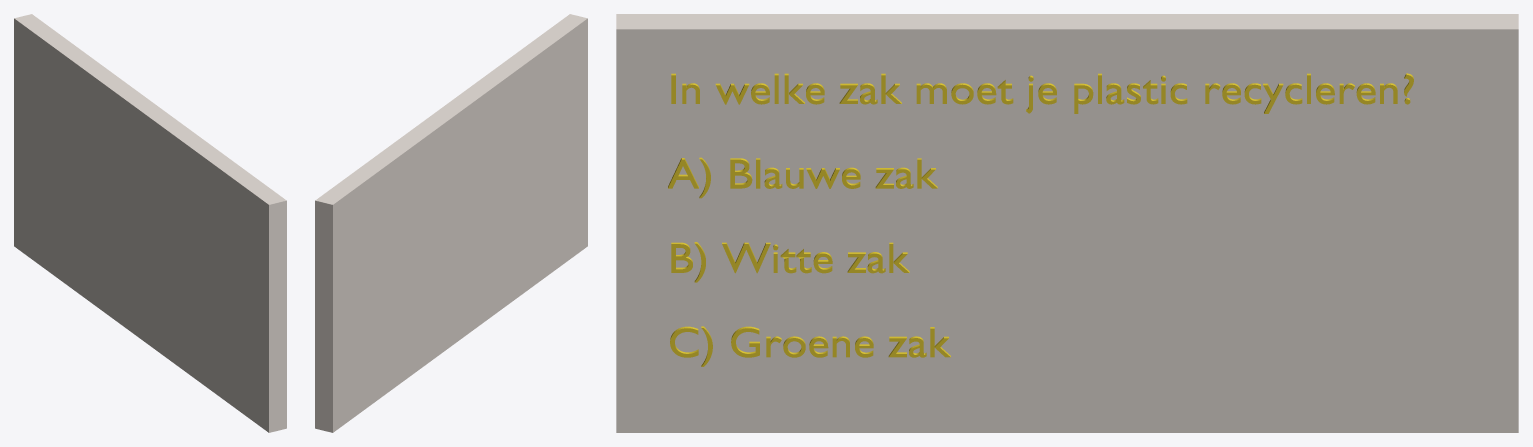
Rendered from vraag1 (1).fbx.
The picture shows the model from 3 angles, left to right: view 1: azimuth 30°, elevation 25°; view 2: azimuth 150°, elevation 25°; view 3: azimuth 270°, elevation 25°; orthographic projection. The views are drawn at different scales.
Visible parts, largest first — view 1: Cube; view 2: Cube; view 3: Cube.
Part boxes in pixels (box(x1,y1,x2,y2)): Cube: box(14, 14, 286, 432); Cube: box(315, 14, 587, 432); Cube: box(616, 14, 1518, 432).
Size of the model in its own units: 29.27 by 296 by 600.
